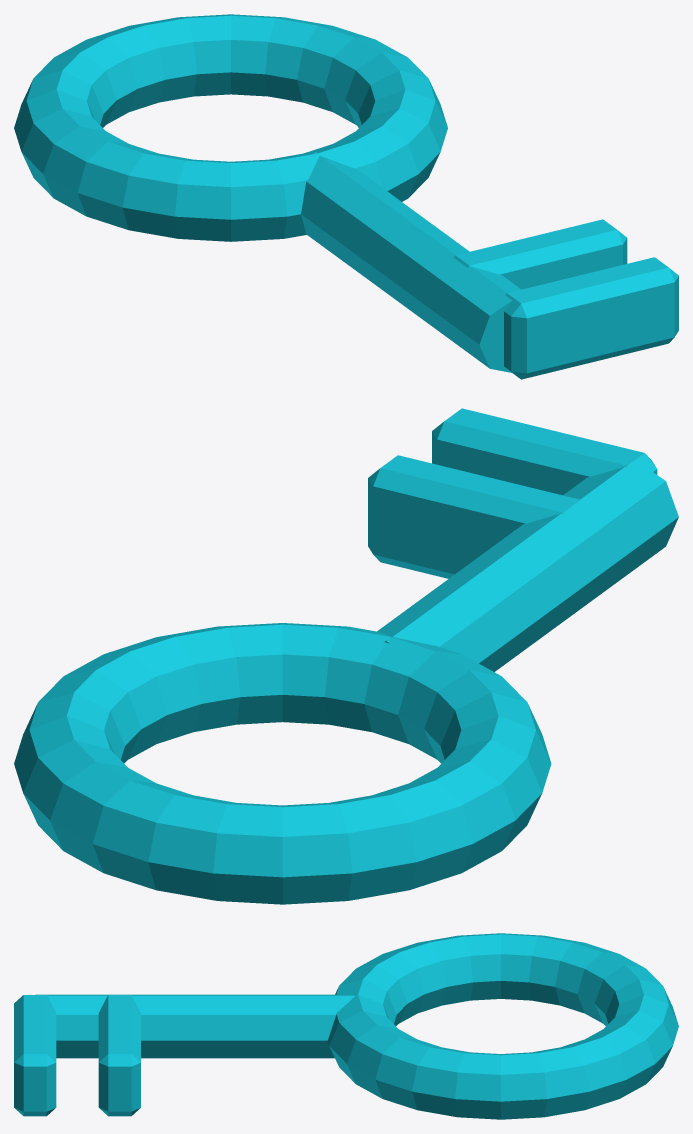
Rendered from key-blue.glb.
3 renders of one model, top to bottom at view 1: azimuth 30°, elevation 25°; view 2: azimuth 150°, elevation 25°; view 3: azimuth 270°, elevation 25°, orthographic. The views are drawn at different scales.
Parts seen in each view (by area): view 1: key-blue; view 2: key-blue; view 3: key-blue.
Part boxes in pixels (x1,y1,x2,y2): key-blue: (14, 14, 678, 379); key-blue: (14, 408, 678, 904); key-blue: (14, 933, 678, 1119).
Size of the model in its own units: 0.336 by 0.066 by 0.628.
